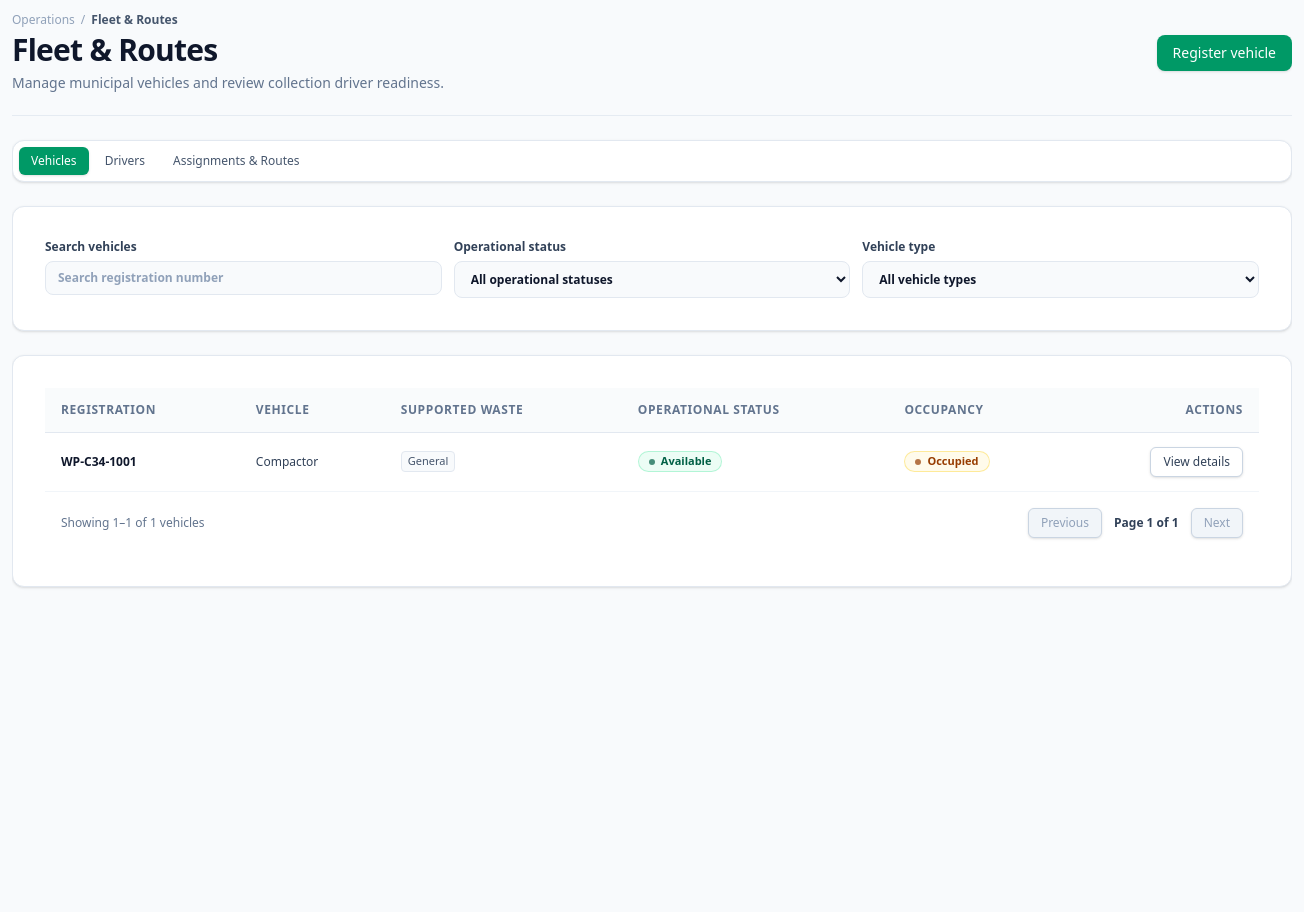
ManagerFleetRoutesPage › navigates to Assignments & Routes and displays municipal assignment oversight
Click the button "Assignments & Routes".
click(236, 161)  # box x1=161 y1=147 x2=312 y2=175
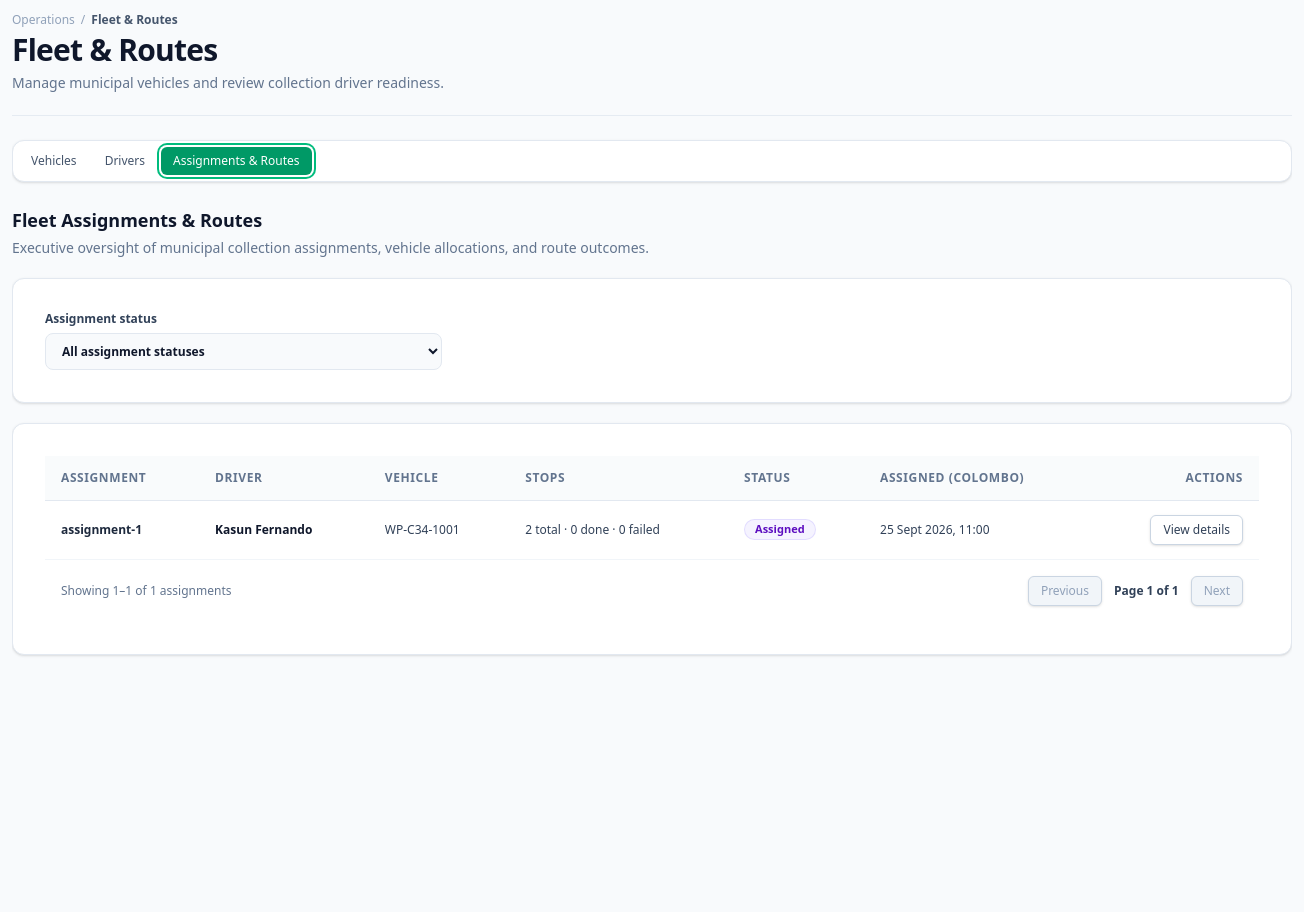
Now the heading "Fleet Assignments & Routes" is shown, box x1=12 y1=208 x2=262 y2=232
Now the text "WP-C34-1001" is shown, box x1=369 y1=500 x2=509 y2=559
Now the text "Kasun Fernando" is shown, box x1=199 y1=500 x2=369 y2=559
